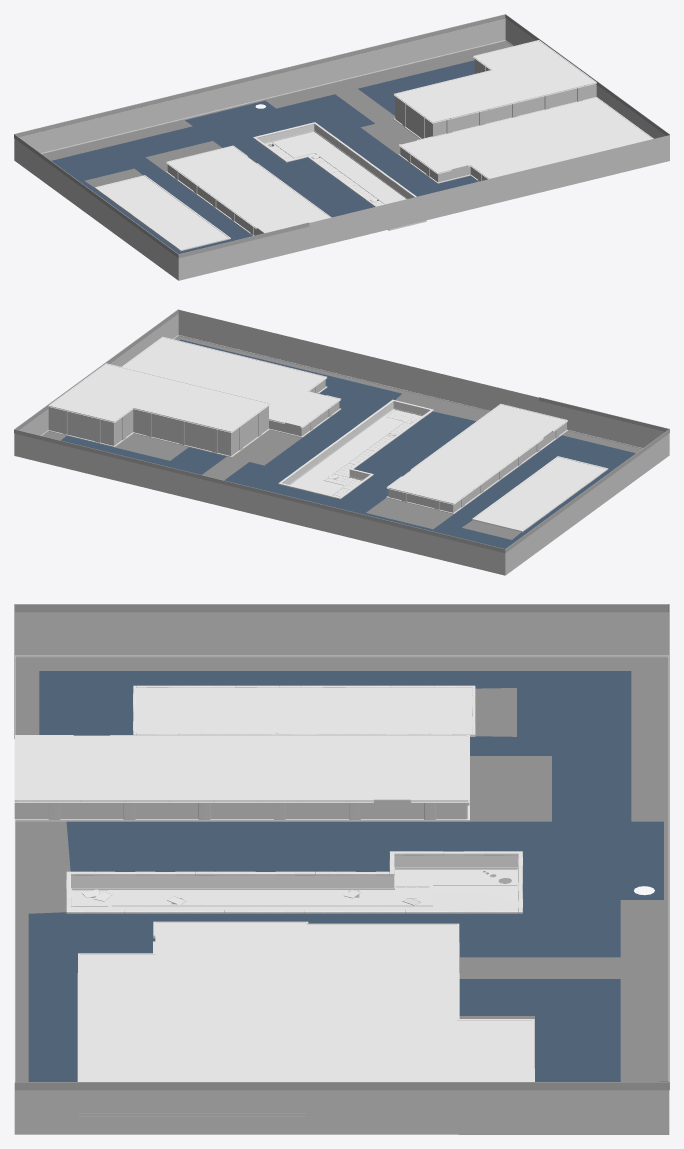
3 renders of one model, top to bottom at view 1: azimuth 30°, elevation 25°; view 2: azimuth 150°, elevation 25°; view 3: azimuth 270°, elevation 25°, orthographic. The views are drawn at different scales.
Visible parts, largest first — view 1: SM_I_RoadFacility_Ground_L_04H; view 2: SM_I_RoadFacility_Ground_L_04H; view 3: SM_I_RoadFacility_Ground_L_04H.
Boxes of the visible parts, box(x1,y1,x2,y2) form: SM_I_RoadFacility_Ground_L_04H: box(14, 14, 669, 280); SM_I_RoadFacility_Ground_L_04H: box(14, 309, 669, 575); SM_I_RoadFacility_Ground_L_04H: box(14, 604, 669, 1134).
Bounding box in the file's own units: 1604 × 2767 × 224.
